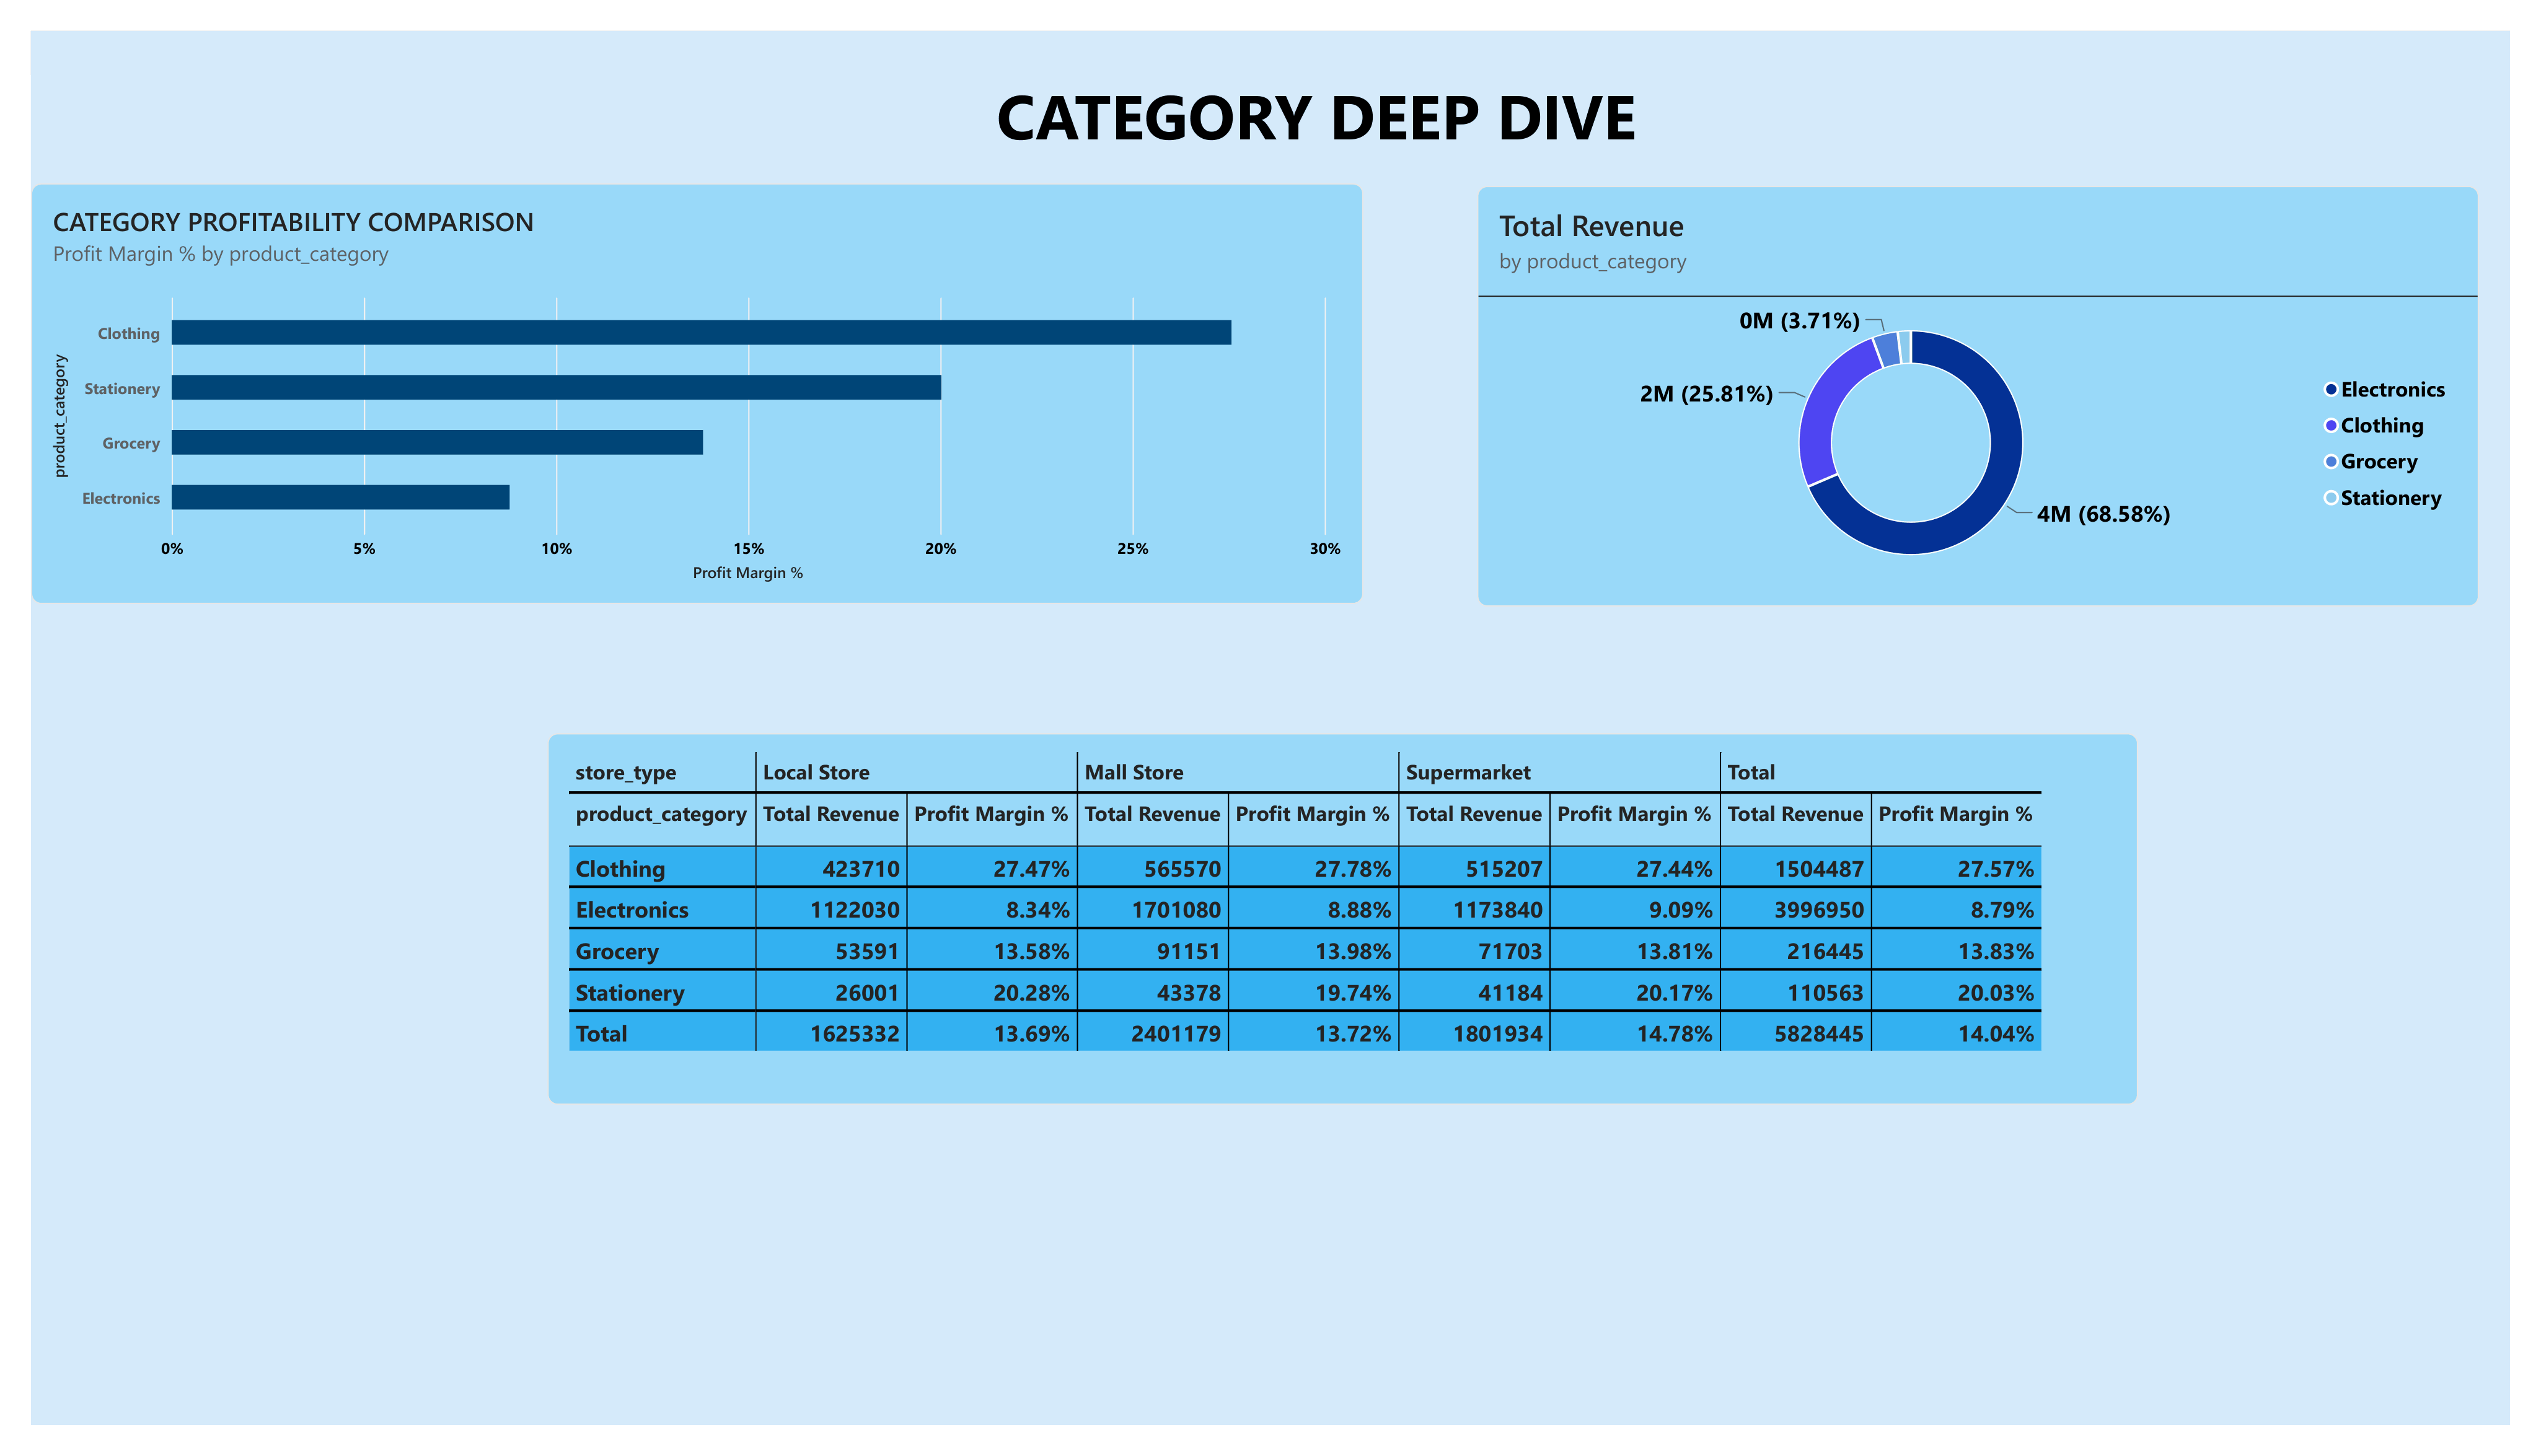

The page's visual inventory and layout, read from the dashboard file:
{"tool":"powerbi","page":{"name":"CATEGORY DEEP DIVE","canvas":[1920,1080],"ordinal":3},"visuals":[{"type":"pivotTable","fields":{"Rows":["Sales.product_category"],"Columns":["Sales.store_type"],"Values":["'MEASURE TABLE'.Total Revenue","'MEASURE TABLE'.Profit Margin %"]},"box":[400,544,1232,288],"z":0},{"type":"clusteredBarChart","title":"CATEGORY PROFITABILITY COMPARISON","fields":{"Category":["Sales.product_category"],"Y":["'MEASURE TABLE'.Profit Margin %"]},"box":[0,118,1032,326],"z":1000},{"type":"donutChart","fields":{"Category":["Sales.product_category"],"Y":["'MEASURE TABLE'.Total Revenue"]},"box":[1120,120,776,326],"z":3000},{"type":"textbox","box":[748,32,618,268],"z":4000}]}

Visuals, with their boxes on the page's 1920x1080 design canvas (x1, y1, x2, y2). These are canvas units, not pixel positions in the 2541x1456 screenshot, which may show the page scaled, cropped or inside an application window:
pivotTable - Sales.product_category x Sales.store_type: bbox=(400, 544, 1632, 832)
"CATEGORY PROFITABILITY COMPARISON" clusteredBarChart: bbox=(0, 118, 1032, 444)
donutChart - Sales.product_category x 'MEASURE TABLE'.Total Revenue: bbox=(1120, 120, 1896, 446)
textbox: bbox=(748, 32, 1366, 300)
